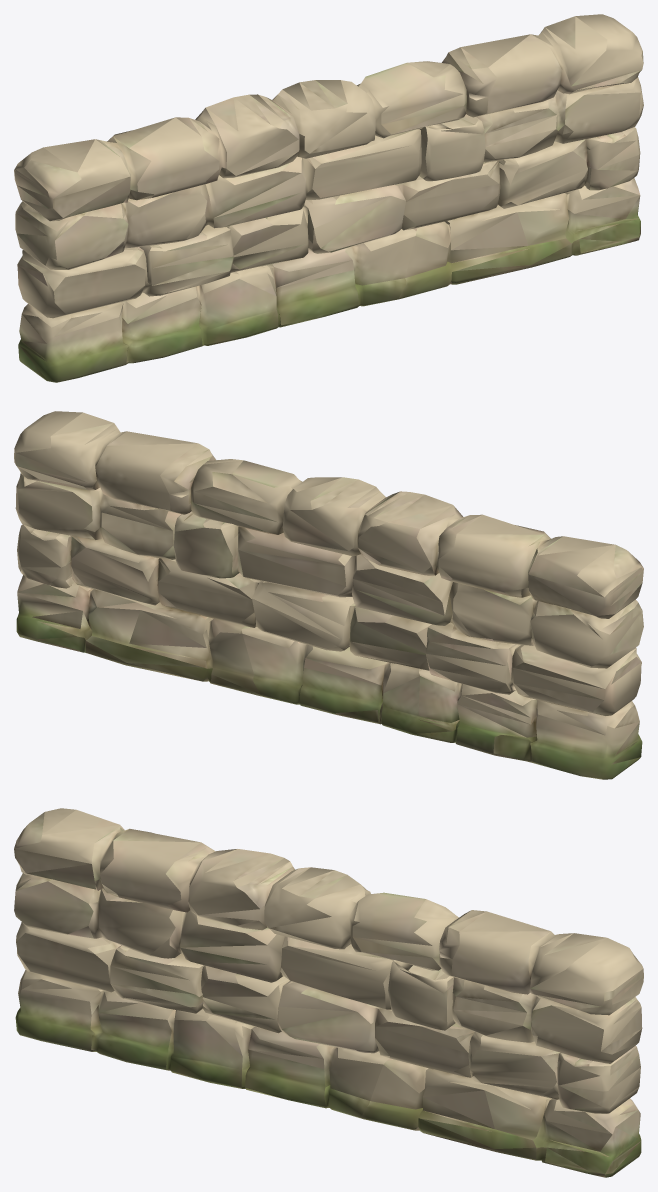
Rendered from mossy_sandstone_wall.glb.
3 renders of one model, top to bottom at view 1: azimuth 30°, elevation 25°; view 2: azimuth 150°, elevation 25°; view 3: azimuth 330°, elevation 25°, orthographic.
Parts seen in each view (by area): view 1: Mesh_0; view 2: Mesh_0; view 3: Mesh_0.
Boxes of the visible parts, <box> form: Mesh_0: <box>14,14,643,382</box>; Mesh_0: <box>14,411,643,779</box>; Mesh_0: <box>14,808,643,1177</box>.
Size of the model in its own units: 0.9551 by 0.3193 by 0.1187.
Materials: 1 (1 with a texture image).
